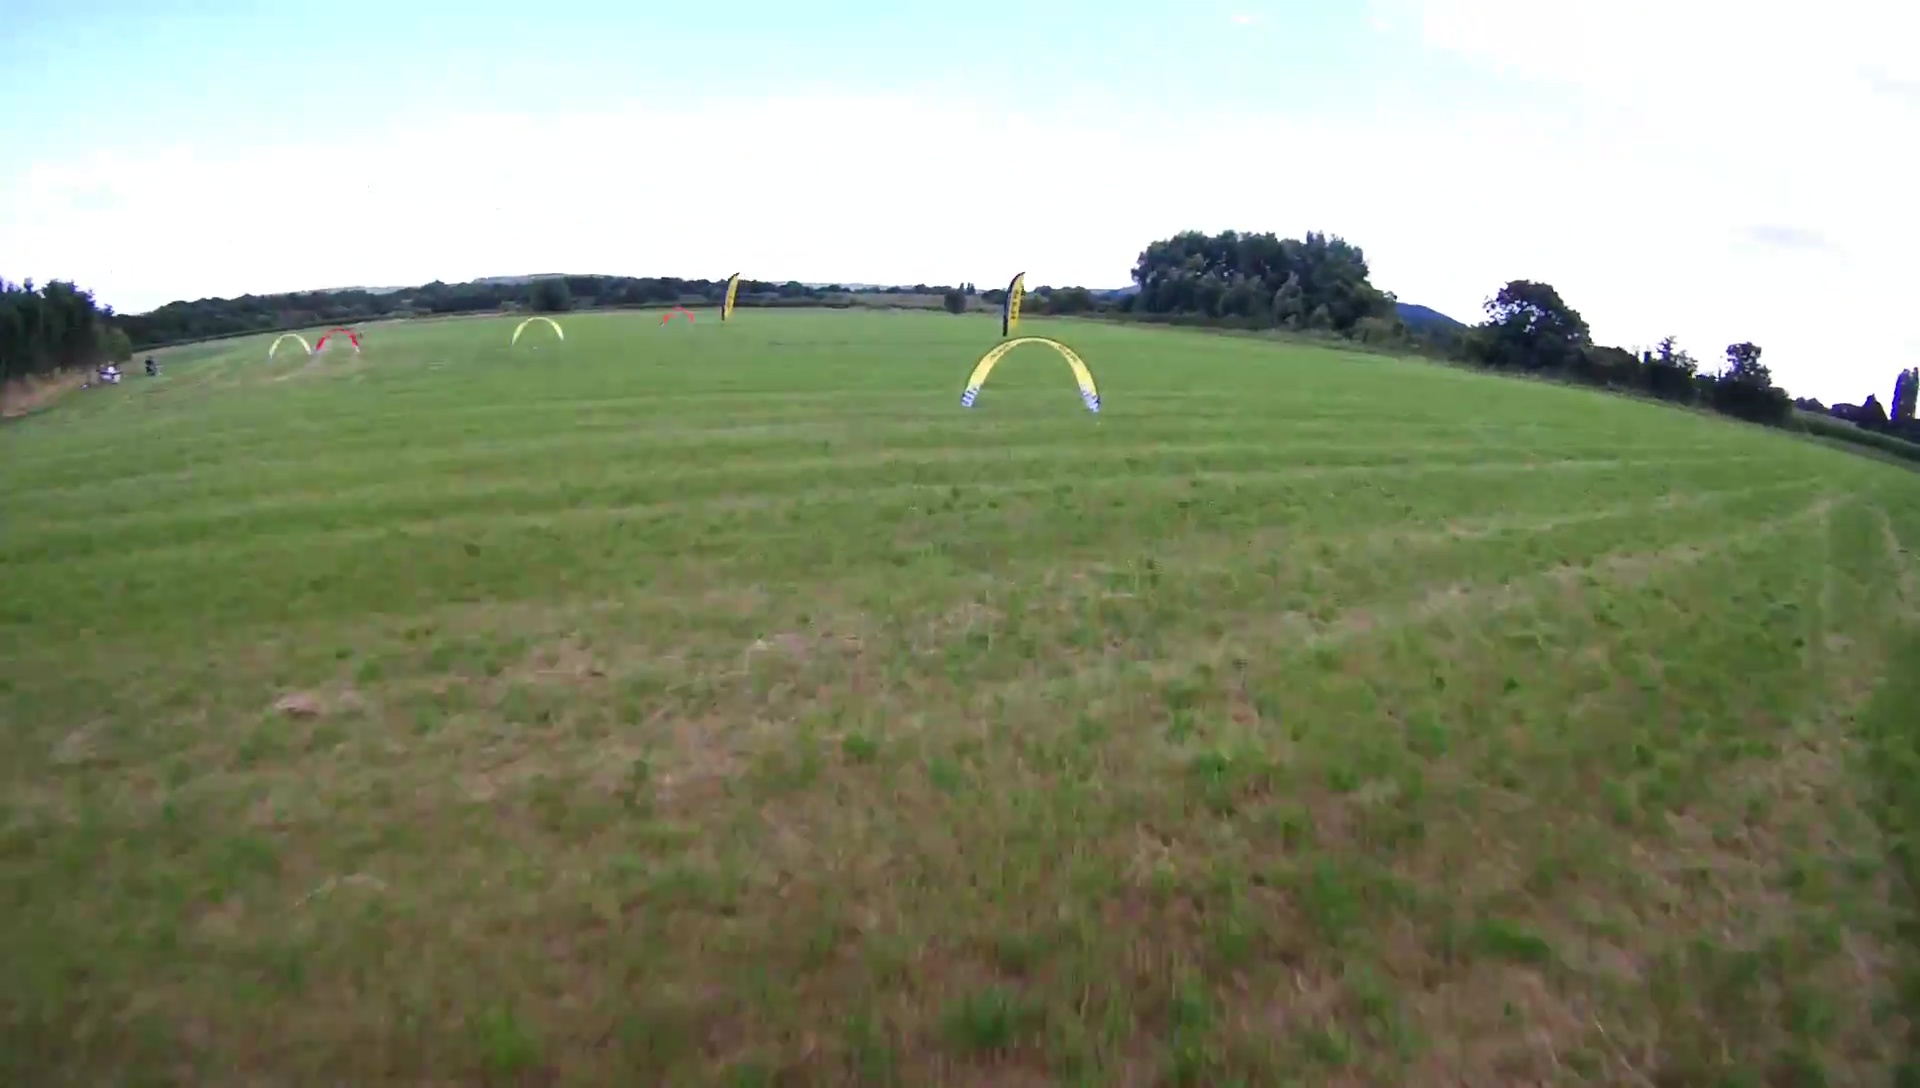gate: (957, 334, 1104, 415), (510, 315, 568, 344), (315, 326, 364, 353), (266, 332, 315, 360)
